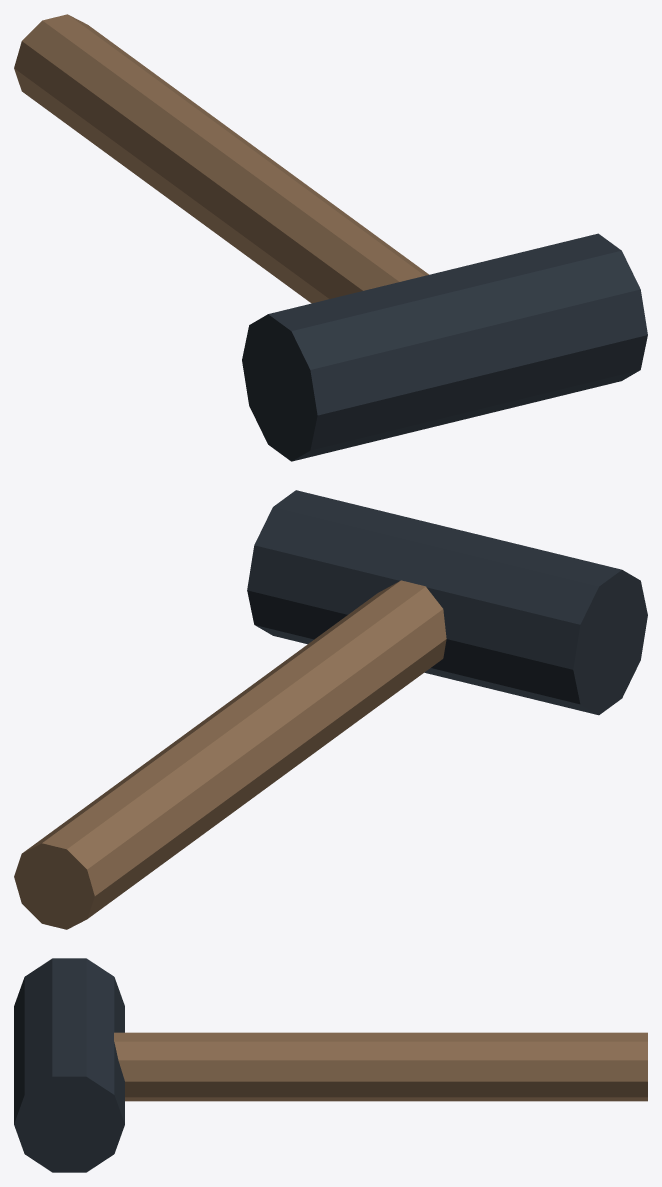
File: L-21_ball_peen.glb
3 views of the same model, one above another, from view 1: azimuth 30°, elevation 25°; view 2: azimuth 150°, elevation 25°; view 3: azimuth 270°, elevation 25° (orthographic). The views are drawn at different scales.
Visible parts, largest first — view 1: L-21_ball_peen; view 2: L-21_ball_peen; view 3: L-21_ball_peen.
Part boxes in pixels (x1,y1,x2,y2): L-21_ball_peen: (14,14,647,461); L-21_ball_peen: (14,490,647,929); L-21_ball_peen: (14,958,647,1172).
Bounding box in the file's own units: 0.121 × 0.0457 × 0.274.
